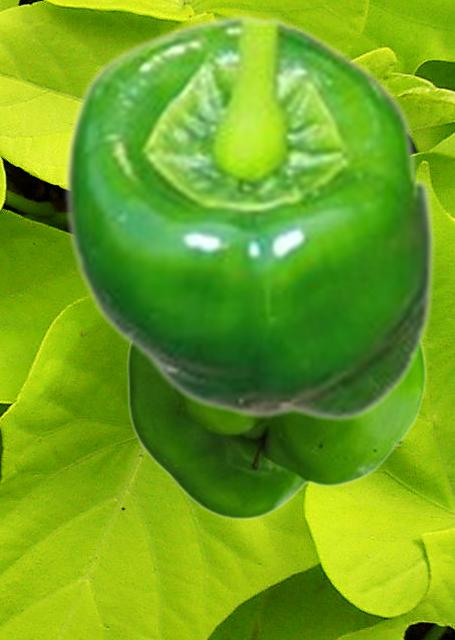bell_pepper: (61, 12, 436, 421), (125, 340, 426, 519)
